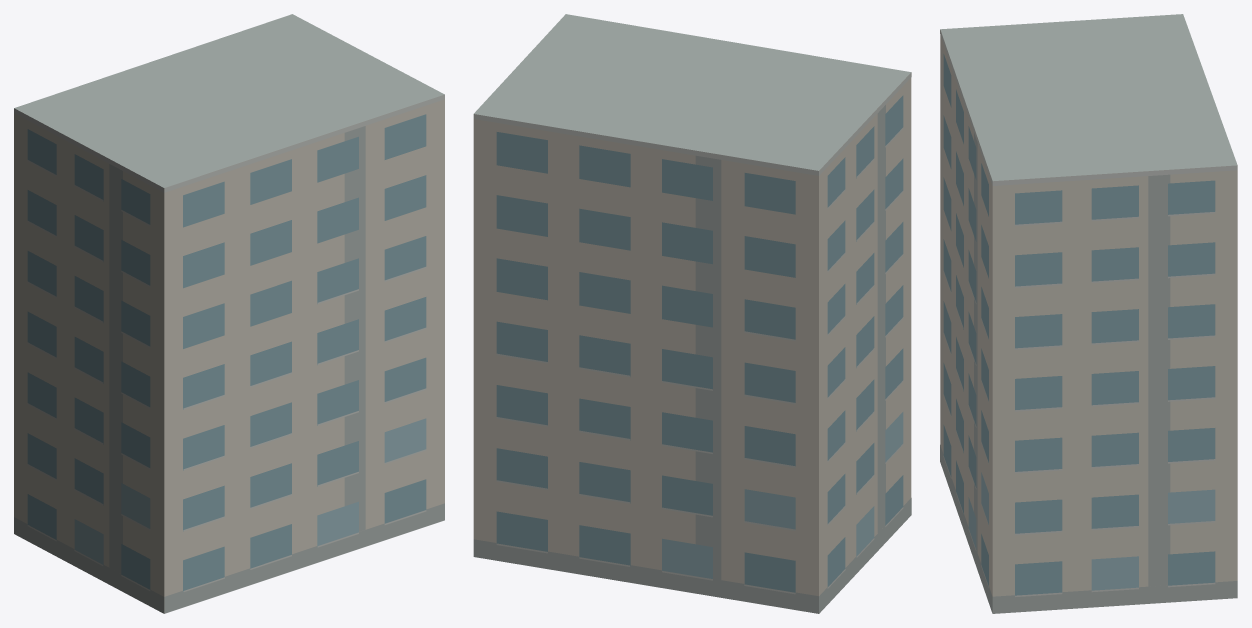
Rendered from survey-upis-32575973.glb.
3 renders of one model, left to right at view 1: azimuth 30°, elevation 25°; view 2: azimuth 150°, elevation 25°; view 3: azimuth 270°, elevation 25°, orthographic. The views are drawn at different scales.
Parts seen in each view (by area): view 1: survey-upis-32575973.tmp; view 2: survey-upis-32575973.tmp; view 3: survey-upis-32575973.tmp.
Boxes of the visible parts, x1,y1,x2,y2 form: survey-upis-32575973.tmp: [14, 14, 444, 613]; survey-upis-32575973.tmp: [473, 14, 911, 613]; survey-upis-32575973.tmp: [940, 14, 1237, 613].
Size of the model in its own units: 17.7 by 21.35 by 13.31.
